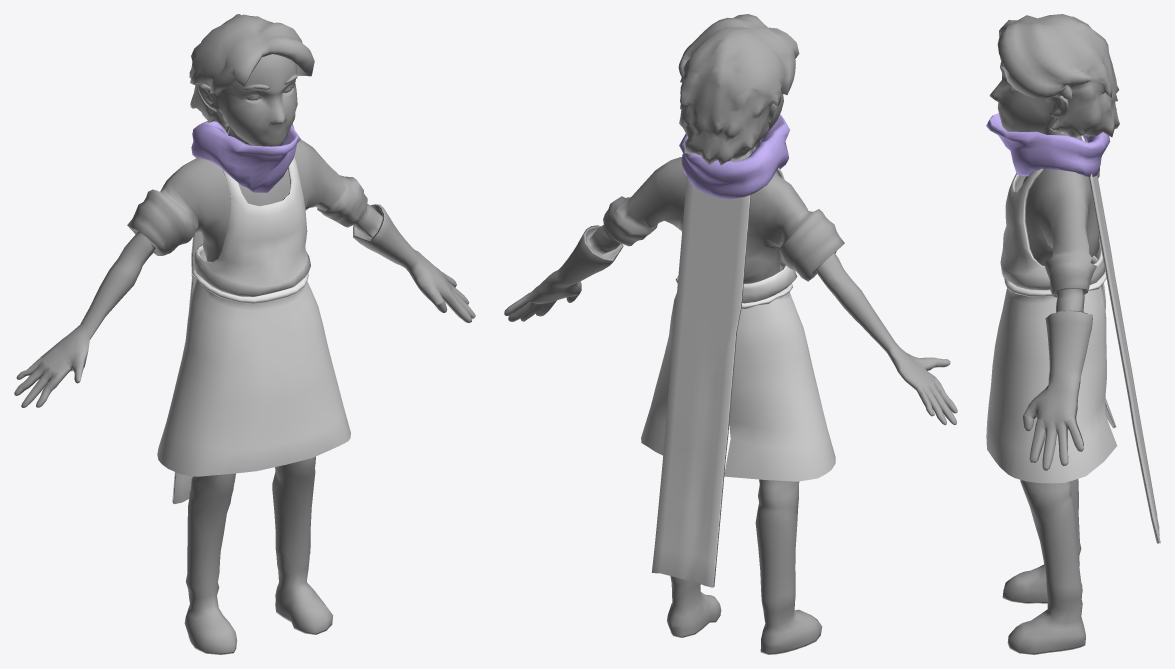
The model's file is RIG_Chara_Rigged.fbx.
3 renders of one model, left to right at view 1: azimuth 30°, elevation 25°; view 2: azimuth 150°, elevation 25°; view 3: azimuth 270°, elevation 25°, orthographic.
Visible parts, largest first — view 1: Body, Tablier_Bas_, Cape_R_; view 2: Body, Cape_R_, Tablier_Bas_; view 3: Body, Tablier_Bas_, Cape_R_.
Part boxes in pixels (left/top/right/bottom): Body: left=14, top=14, right=475, bottom=654; Tablier_Bas_: left=157, top=269, right=350, bottom=476; Cape_R_: left=172, top=232, right=203, bottom=504; Body: left=504, top=14, right=957, bottom=654; Cape_R_: left=651, top=176, right=751, bottom=587; Tablier_Bas_: left=641, top=276, right=835, bottom=481; Body: left=986, top=14, right=1119, bottom=654; Tablier_Bas_: left=986, top=255, right=1117, bottom=483; Cape_R_: left=1086, top=138, right=1160, bottom=543.
Bounding box in the file's own units: 133 × 172 × 45.09.
